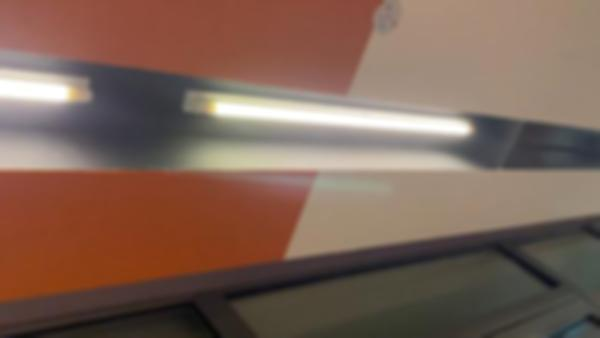light_on: (173, 84, 491, 148), (0, 46, 102, 120)
